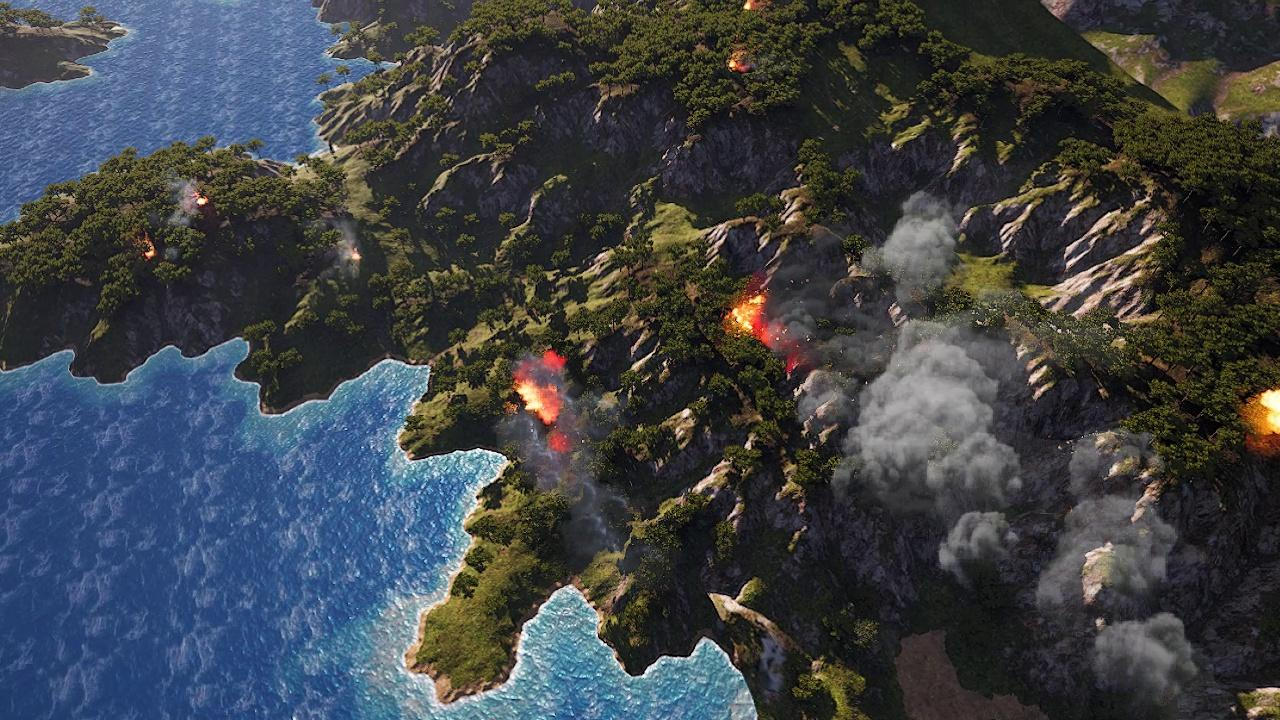fire: (511, 372, 564, 425), (726, 289, 773, 343), (1260, 385, 1280, 434), (140, 233, 157, 261), (726, 53, 750, 72), (739, 0, 764, 13), (350, 249, 365, 263), (197, 195, 209, 208)
smoke: (766, 186, 1219, 714), (497, 349, 640, 565), (319, 210, 368, 282), (161, 170, 199, 259)
